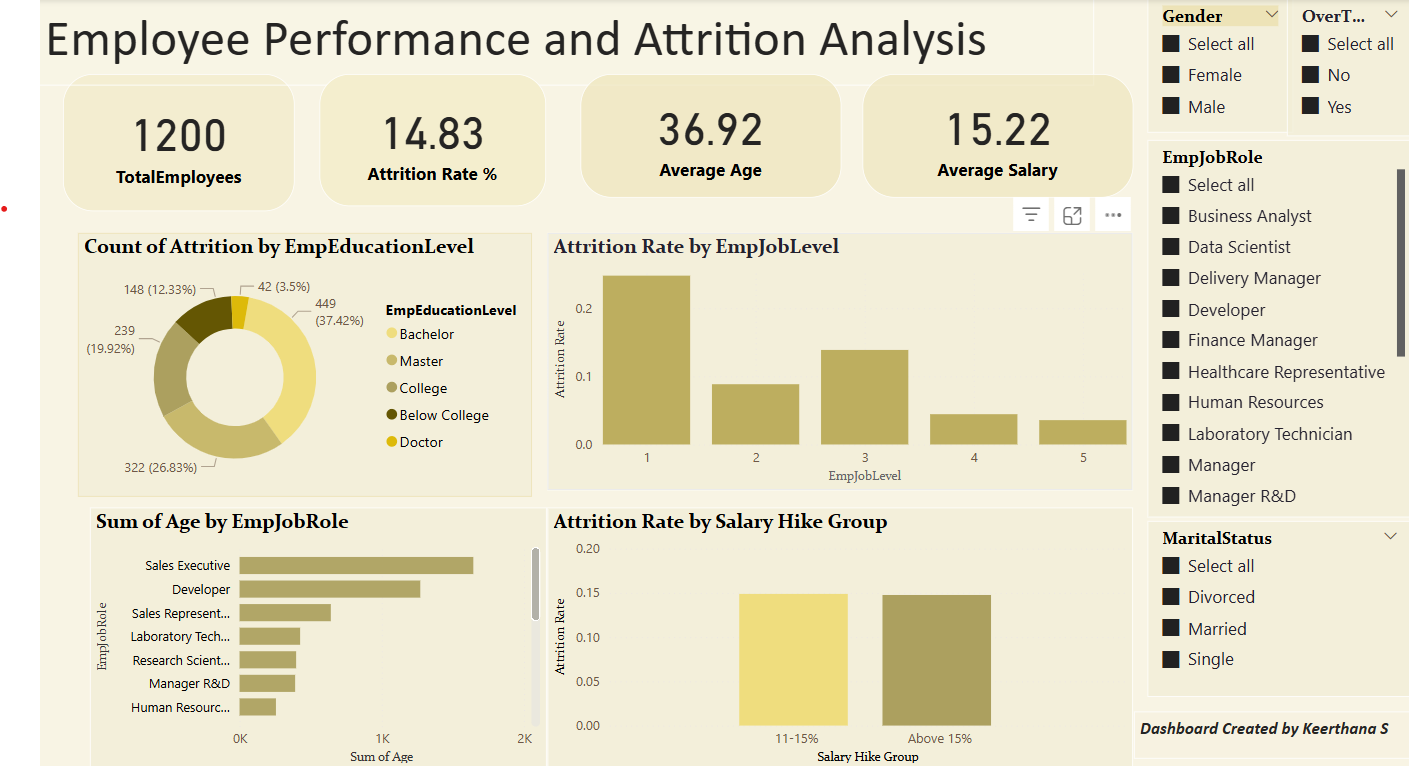

Layout of this report page (visuals, bound fields, positions):
{"tool":"powerbi","page":{"name":"Page 1","canvas":[1280,720],"ordinal":0},"visuals":[{"type":"card","fields":{"Values":["INX_Future_Inc_Employee_Perform.TotalEmployees"]},"box":[22.1,69.5,216.3,127.9],"z":0},{"type":"textbox","box":[0,0,983.7,80.5],"z":1},{"type":"card","fields":{"Values":["INX_Future_Inc_Employee_Perform.Attrition Rate %"]},"box":[262.1,69.5,211.6,123.2],"z":2},{"type":"card","fields":{"Values":["INX_Future_Inc_Employee_Perform.Average Age"]},"box":[505.3,69.5,243.2,115.3],"z":3},{"type":"card","fields":{"Values":["INX_Future_Inc_Employee_Perform.Average Salary"]},"box":[767.4,69.5,252.6,115.3],"z":4},{"type":"donutChart","fields":{"Y":["CountNonNull(INX_Future_Inc_Employee_Perform.Attrition)"],"Category":["INX_Future_Inc_Employee_Perform.EmpEducationLevel"]},"box":[36.3,217.9,423.2,246.3],"z":5},{"type":"clusteredColumnChart","fields":{"Y":["INX_Future_Inc_Employee_Perform.Attrition Rate"],"Category":["INX_Future_Inc_Employee_Perform.EmpJobLevel"]},"box":[473.7,217.9,546.3,240],"z":6},{"type":"slicer","fields":{"Values":["INX_Future_Inc_Employee_Perform.Gender"]},"box":[1034.2,0,135.8,124.7],"z":8},{"type":"slicer","fields":{"Values":["INX_Future_Inc_Employee_Perform.MaritalStatus"]},"box":[1034.2,486.3,246.3,164.2],"z":9},{"type":"slicer","fields":{"Values":["INX_Future_Inc_Employee_Perform.OverTime"]},"box":[1163.7,0,116.8,127.9],"z":10},{"type":"slicer","fields":{"Values":["INX_Future_Inc_Employee_Perform.EmpJobRole"]},"box":[1034.2,131.1,246.3,352.1],"z":11},{"type":"textbox","box":[1034.2,664.7,246.3,44.2],"z":13},{"type":"clusteredBarChart","fields":{"Y":["Sum(INX_Future_Inc_Employee_Perform.Age)"],"Category":["INX_Future_Inc_Employee_Perform.EmpJobRole"]},"box":[47.4,473.7,426.3,246.3],"z":14},{"type":"lineStackedColumnComboChart","fields":{"Category":["INX_Future_Inc_Employee_Perform.Salary Hike Group"],"Y":["INX_Future_Inc_Employee_Perform.Attrition Rate"]},"box":[473.7,473.7,546.3,246.3],"z":15}]}

Visuals, with their boxes in screenshot pixels (x1, y1, x2, y2):
card - INX_Future_Inc_Employee_Perform.TotalEmployees: 147/118/366/248
textbox: 125/48/1121/129
card - INX_Future_Inc_Employee_Perform.Attrition Rate %: 390/118/605/243
card - INX_Future_Inc_Employee_Perform.Average Age: 637/118/883/235
card - INX_Future_Inc_Employee_Perform.Average Salary: 902/118/1158/235
donutChart - CountNonNull(INX_Future_Inc_Employee_Perform.Attrition) x INX_Future_Inc_Employee_Perform.EmpEducationLevel: 162/268/590/518
clusteredColumnChart - INX_Future_Inc_Employee_Perform.Attrition Rate x INX_Future_Inc_Employee_Perform.EmpJobLevel: 605/268/1158/512
slicer - INX_Future_Inc_Employee_Perform.Gender: 1173/48/1310/174
slicer - INX_Future_Inc_Employee_Perform.MaritalStatus: 1173/540/1408/707
slicer - INX_Future_Inc_Employee_Perform.OverTime: 1304/48/1408/177
slicer - INX_Future_Inc_Employee_Perform.EmpJobRole: 1173/181/1408/537
textbox: 1173/721/1408/765
clusteredBarChart - Sum(INX_Future_Inc_Employee_Perform.Age) x INX_Future_Inc_Employee_Perform.EmpJobRole: 173/528/605/765
lineStackedColumnComboChart - INX_Future_Inc_Employee_Perform.Salary Hike Group x INX_Future_Inc_Employee_Perform.Attrition Rate: 605/528/1158/765
